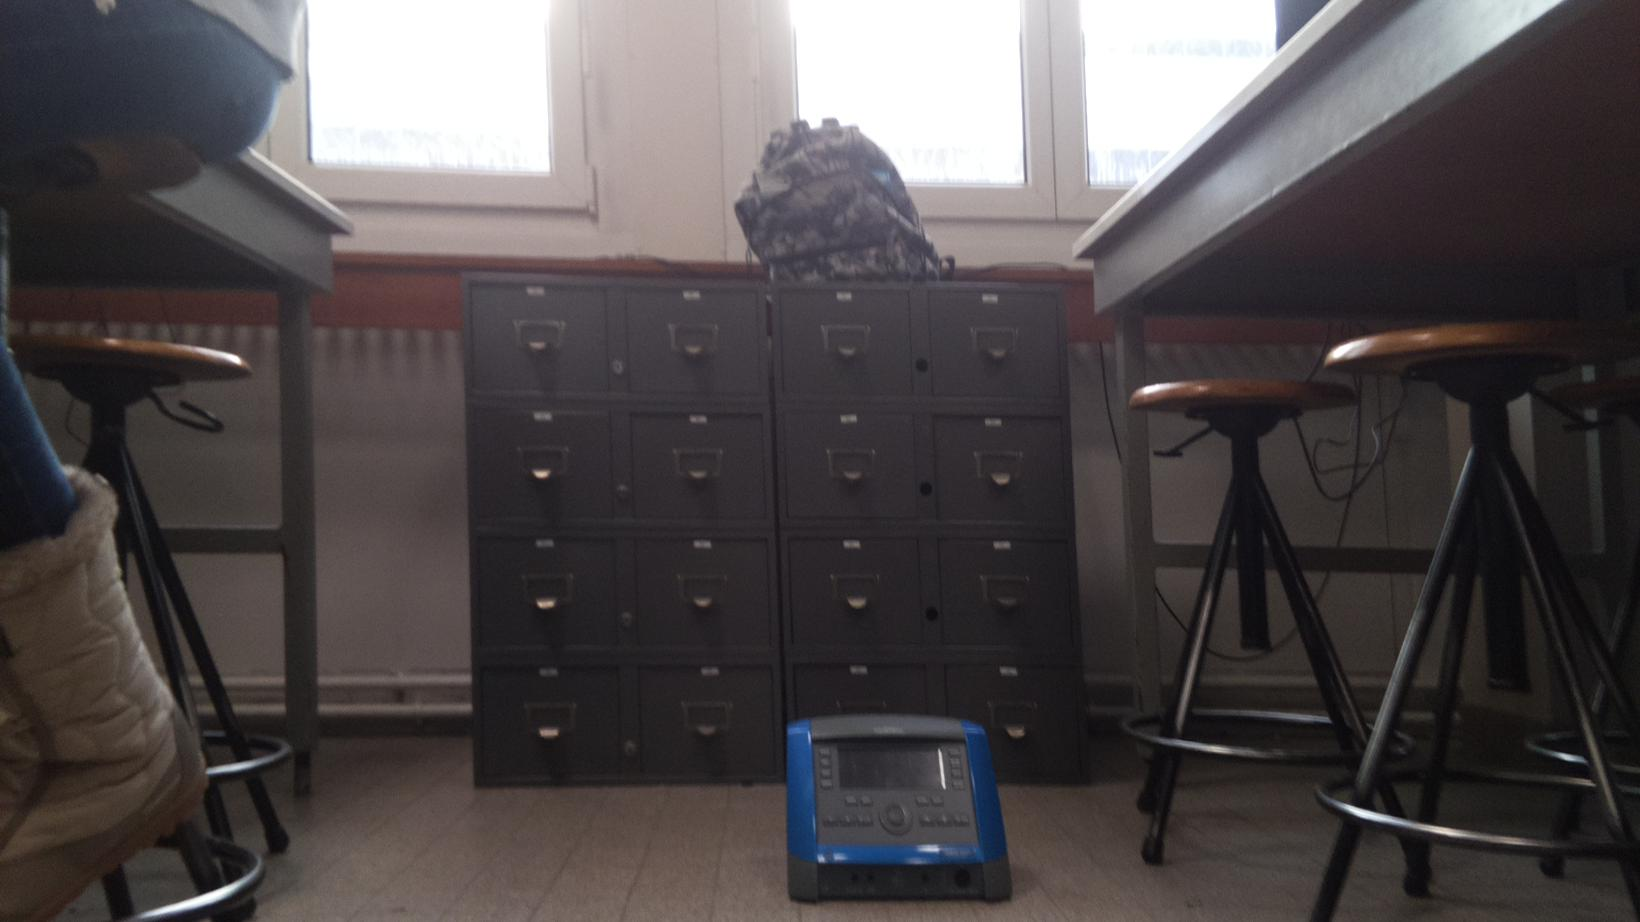big: (739, 125, 942, 281)
medium: (783, 714, 1013, 905)
